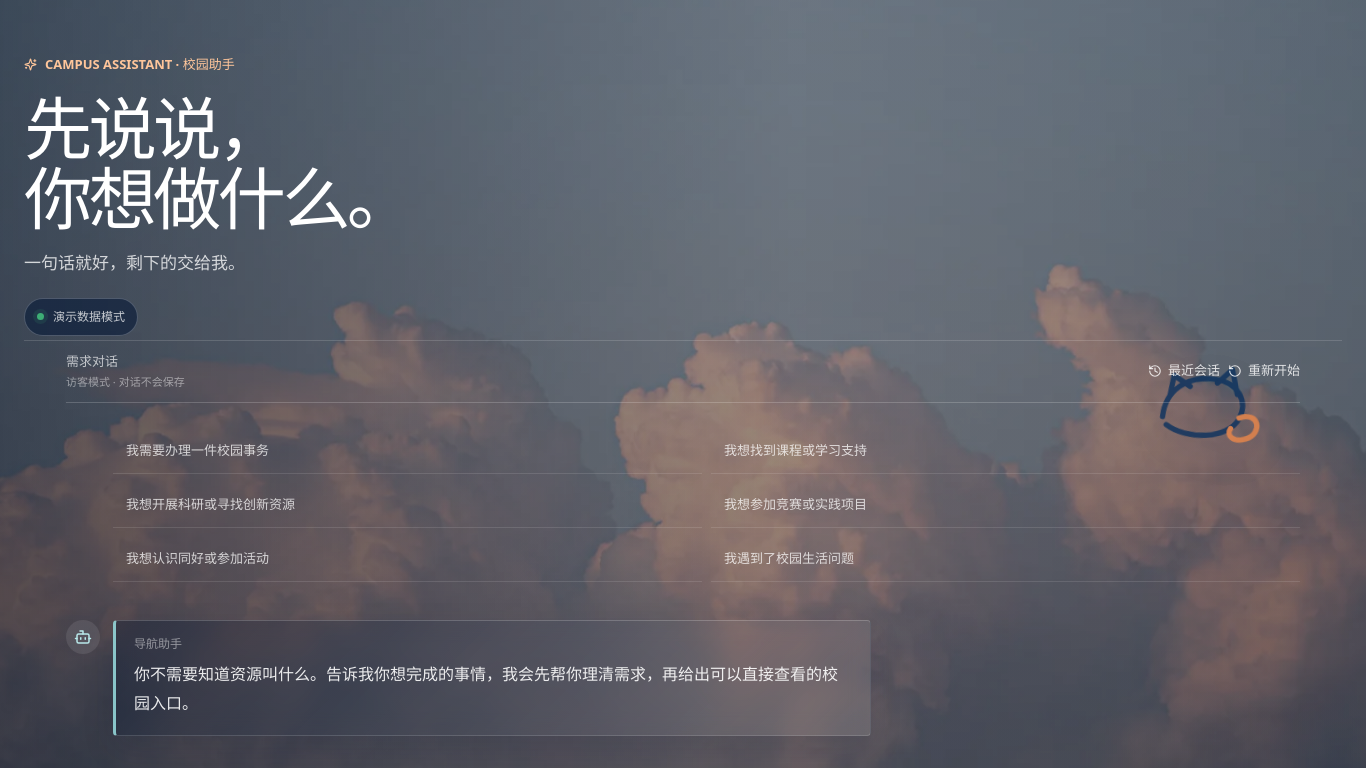
Test case: AssistantPage › uses an open reading surface with a collapsed searchable history rail
Click the button with aria-label "展开最近会话": [1184, 371] box [1148,361,1220,381]
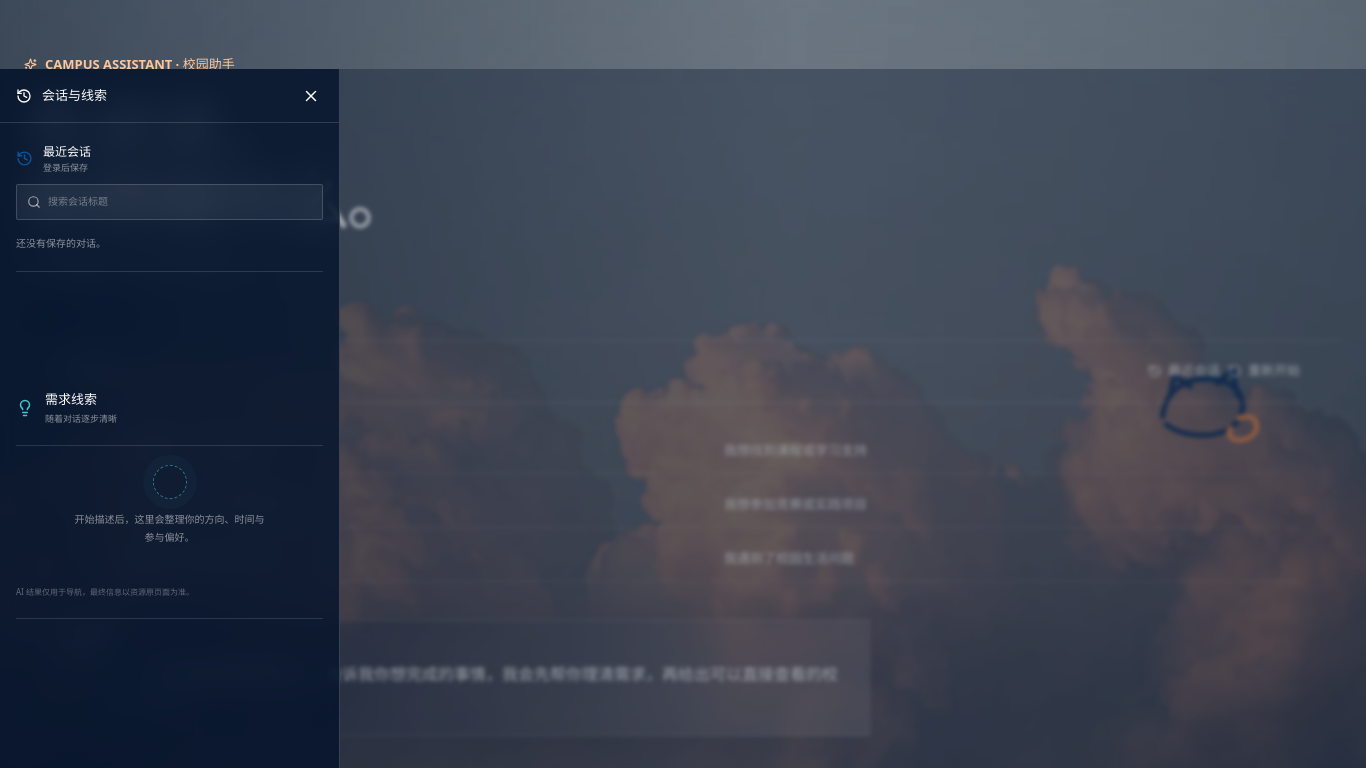
Now the button named "关闭会话抽屉背景" is shown
Press Escape
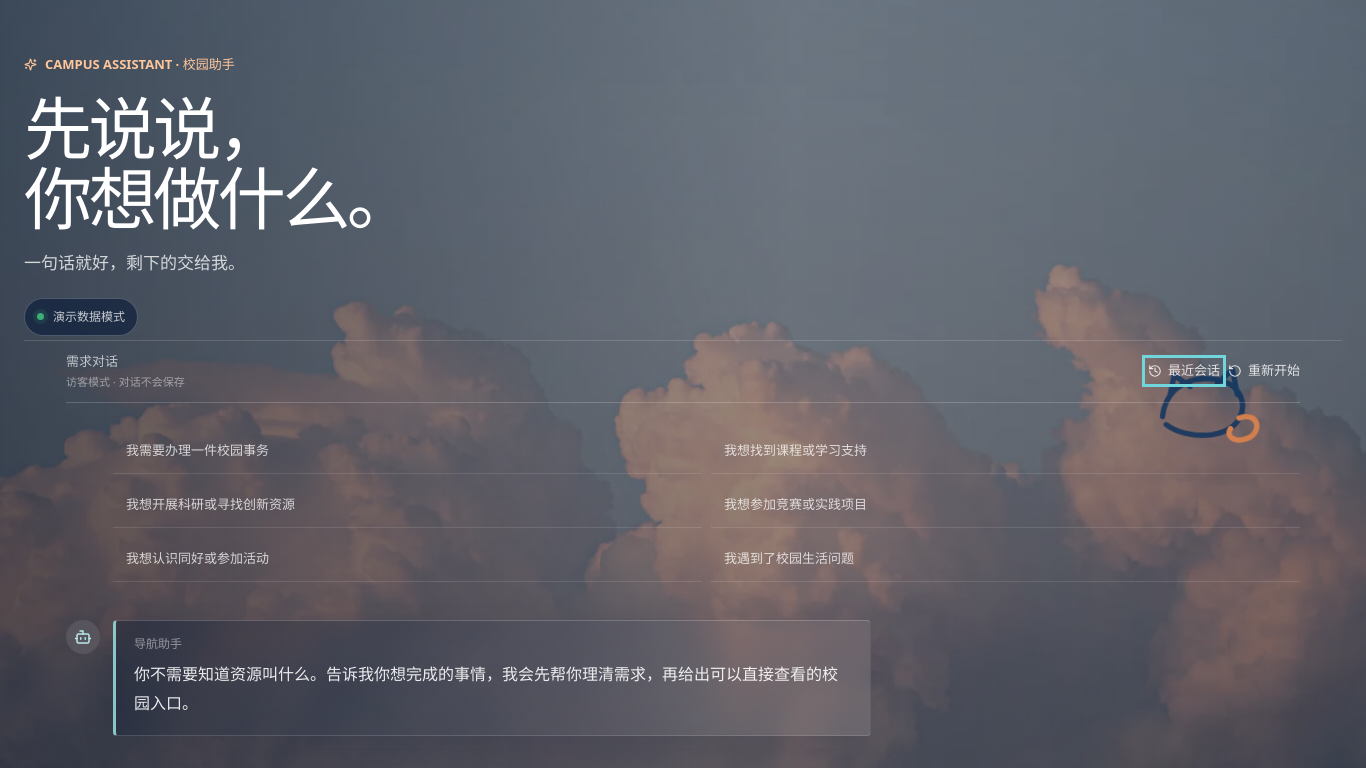
Now the button with aria-label "展开最近会话" is collapsed, box [1148,361,1220,381]
